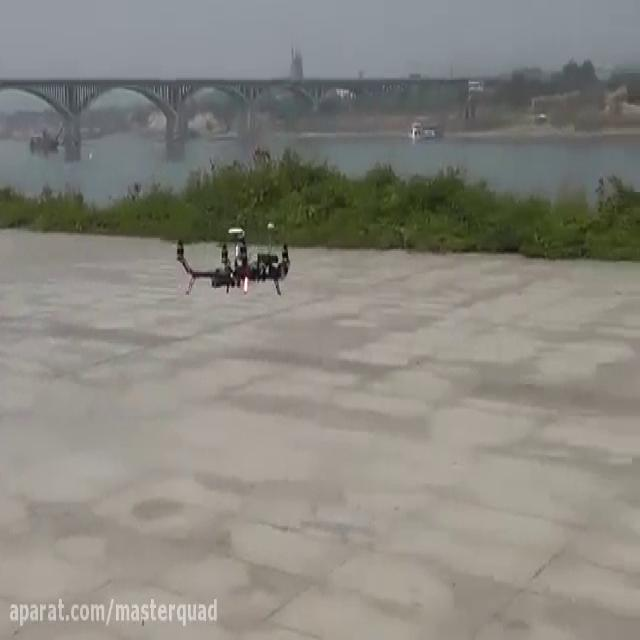drone: (167, 215, 296, 304)
